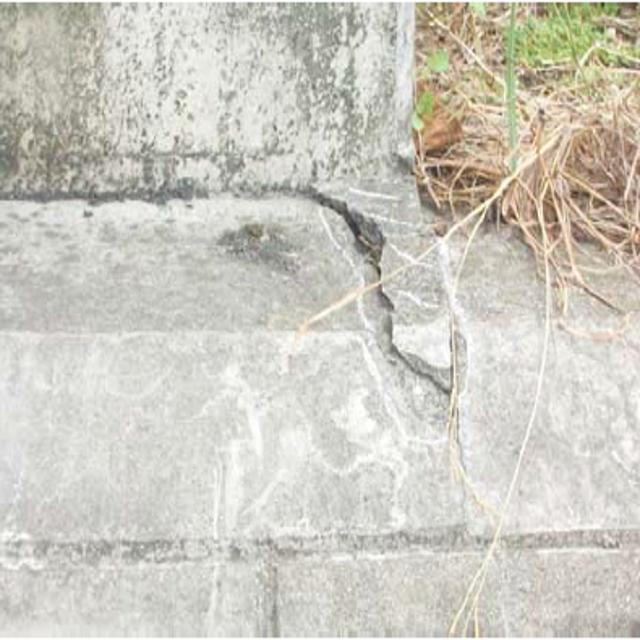spalling: (287, 175, 489, 458)
